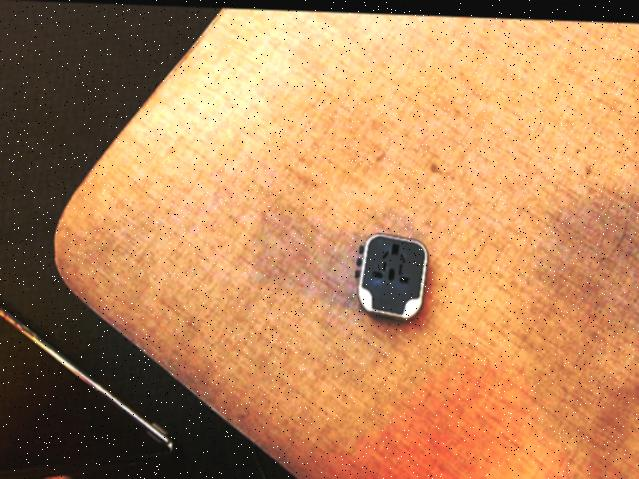adapter: (354, 229, 428, 318)
